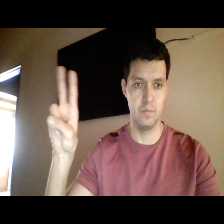KP: (46, 63, 83, 157)
